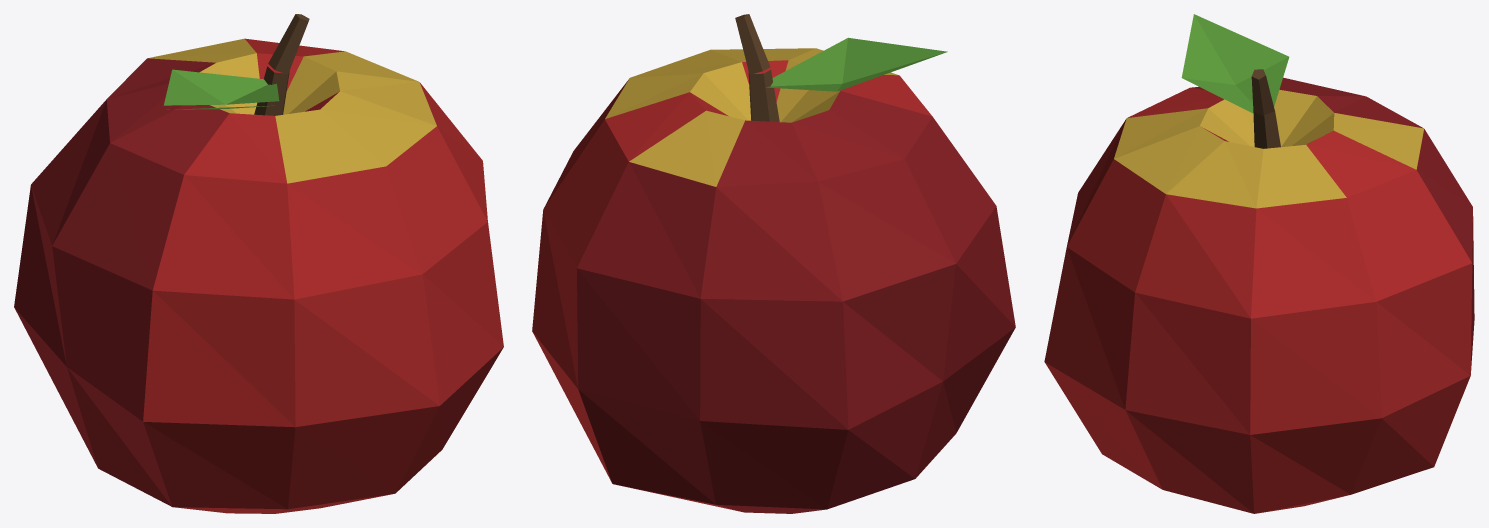
Rendered from apple.glb.
3 views of the same model, side by side, from view 1: azimuth 30°, elevation 25°; view 2: azimuth 150°, elevation 25°; view 3: azimuth 270°, elevation 25° (orthographic). The views are drawn at different scales.
Visible parts, largest first — view 1: Apple; view 2: Apple; view 3: Apple.
Boxes of the visible parts, <box> form: Apple: <box>14,14,503,513</box>; Apple: <box>532,14,1015,513</box>; Apple: <box>1044,14,1474,513</box>.
Size of the model in its own units: 0.0813 by 0.0865 by 0.0795.
